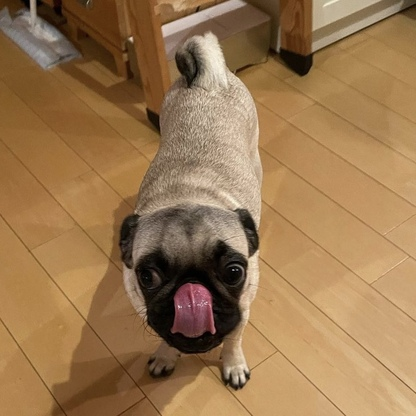Pug: (110, 28, 271, 396)
